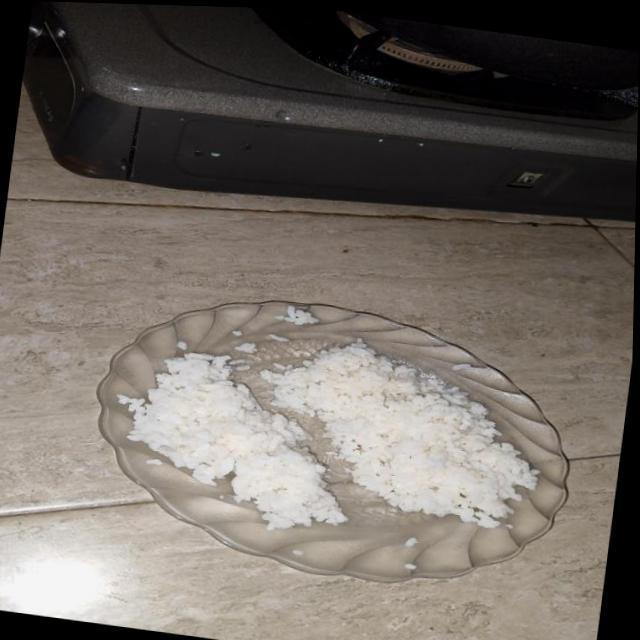nasi_putih: (277, 338, 538, 528), (118, 353, 348, 530)
